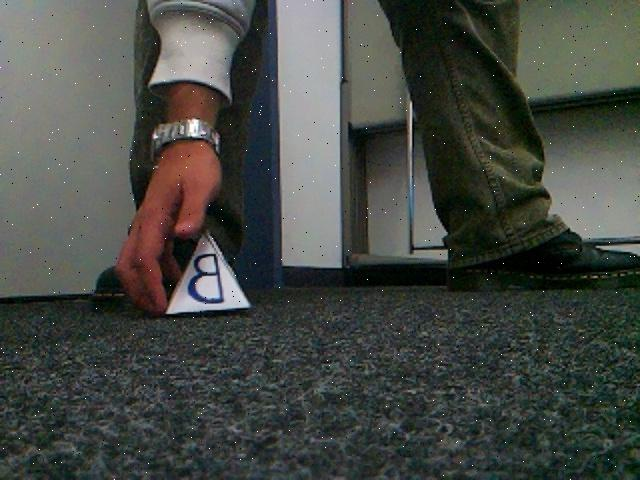B: (167, 230, 249, 316)
